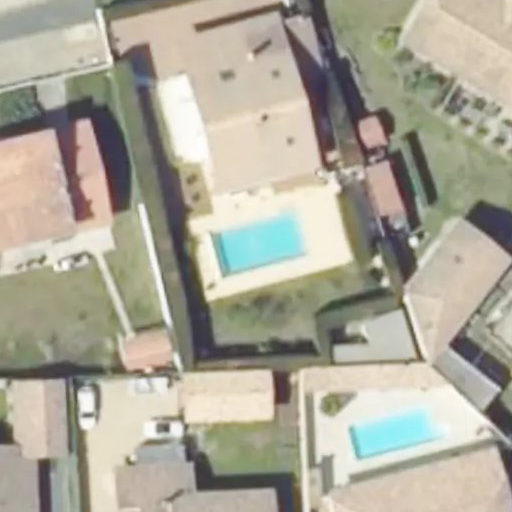pool: (202, 231, 309, 252)
